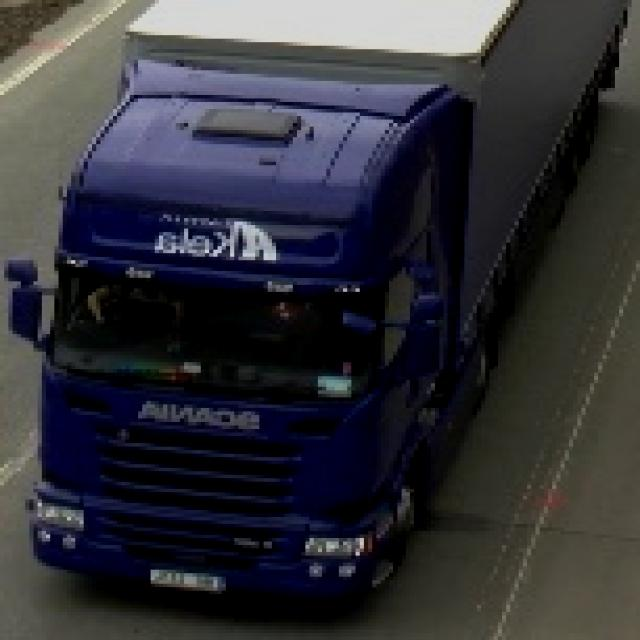TRUCK: (17, 0, 619, 619)
